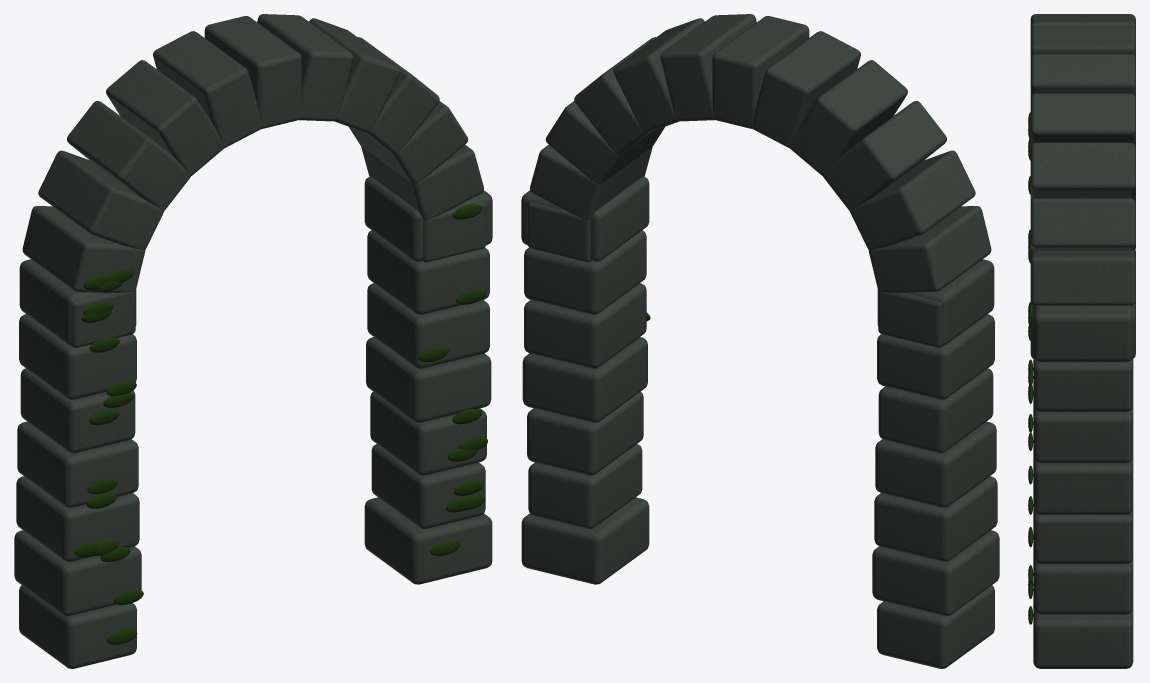
File: ruin.glb
3 renders of one model, left to right at view 1: azimuth 30°, elevation 25°; view 2: azimuth 150°, elevation 25°; view 3: azimuth 270°, elevation 25°, orthographic. The views are drawn at different scales.
Visible parts, largest first — view 1: Pillar; view 2: Pillar; view 3: Pillar.
Part boxes in pixels (<box>): Pillar: <box>14,14,492,668</box>; Pillar: <box>521,14,999,668</box>; Pillar: <box>1028,14,1135,668</box>.
Size of the model in its own units: 3.69 by 4.6 by 0.84.
Materials: 2 (2 with a texture image).
